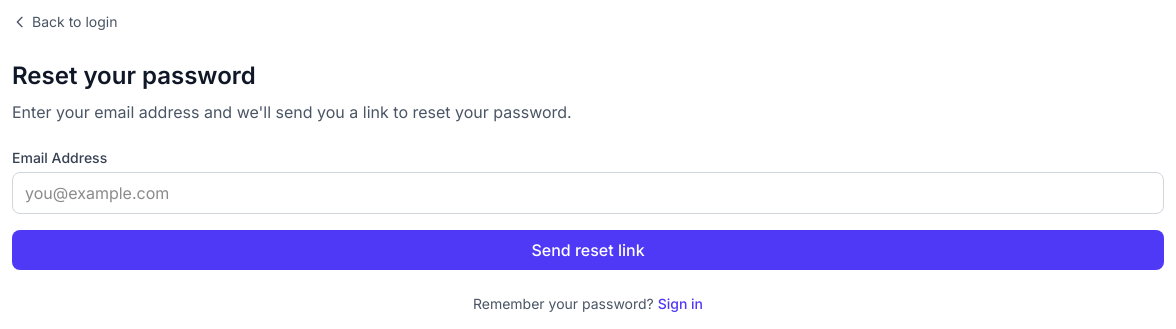
Login Page › Form Submission › shows loading state during submission
Type "test@example.com" into the field labelled "Email Address" at {"x": 588, "y": 193}, box [12,172,1164,214]
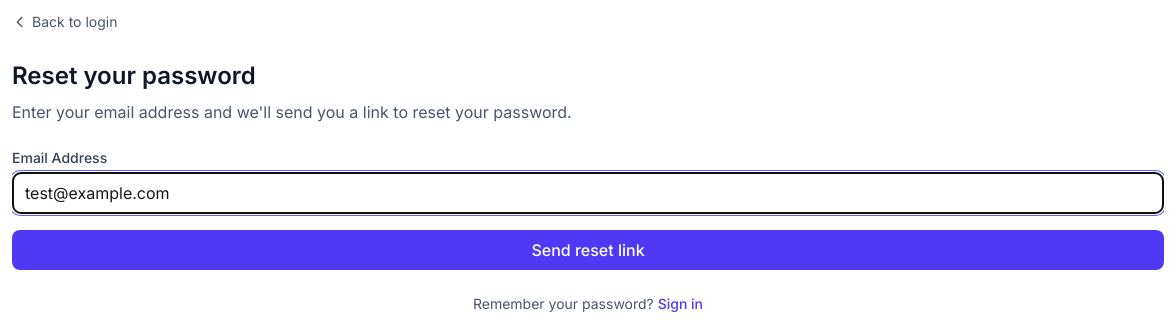
Click the button "Send reset link" at {"x": 588, "y": 250}, box [12,230,1164,270]
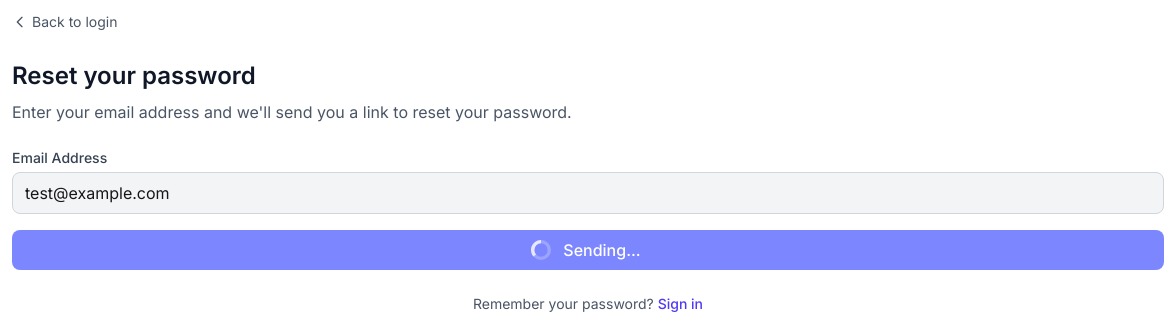
Expected: the text "Sending..." is shown, [531,240,641,260]
